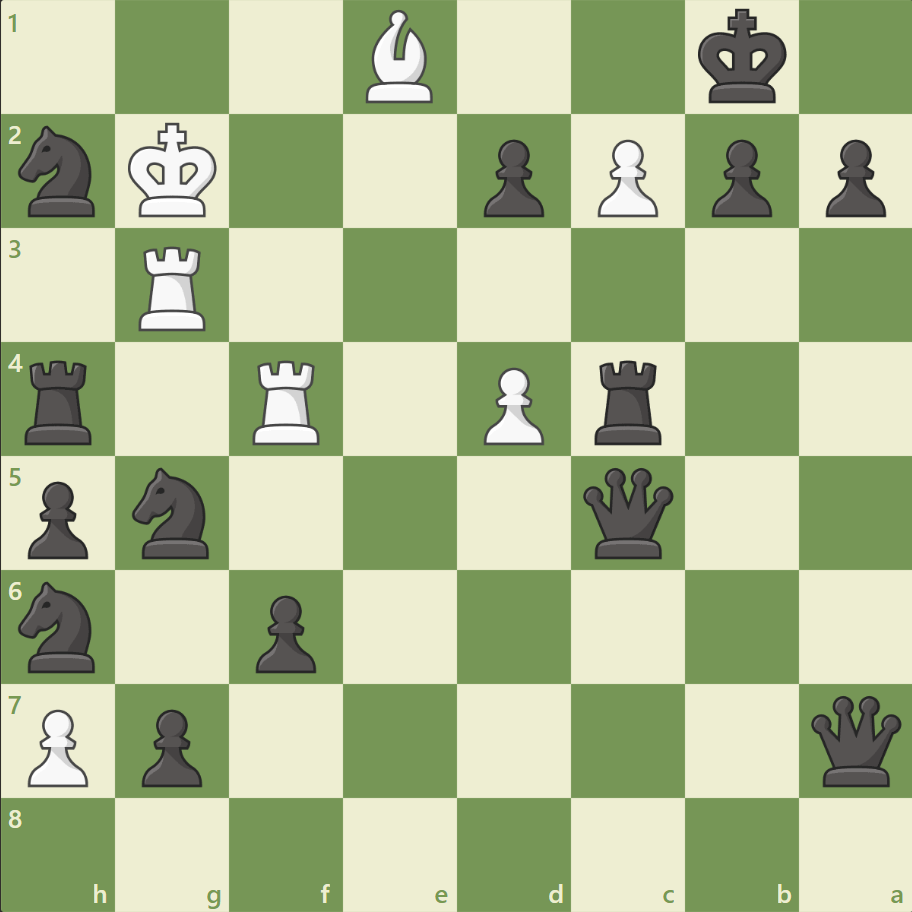B: (358, 6, 442, 109)
K: (124, 117, 224, 225)
P: (20, 700, 95, 791), (474, 359, 549, 450), (588, 132, 662, 223)
R: (246, 352, 329, 449), (133, 239, 215, 336)
k: (692, 4, 792, 112)
n: (124, 461, 222, 564), (11, 575, 108, 677), (11, 121, 108, 223)
p: (133, 700, 208, 791), (247, 586, 322, 677), (20, 473, 95, 564), (701, 132, 776, 223), (474, 132, 549, 223), (815, 132, 889, 223)
q: (805, 690, 904, 789), (578, 463, 677, 562)
r: (587, 352, 670, 449), (19, 352, 102, 449)
